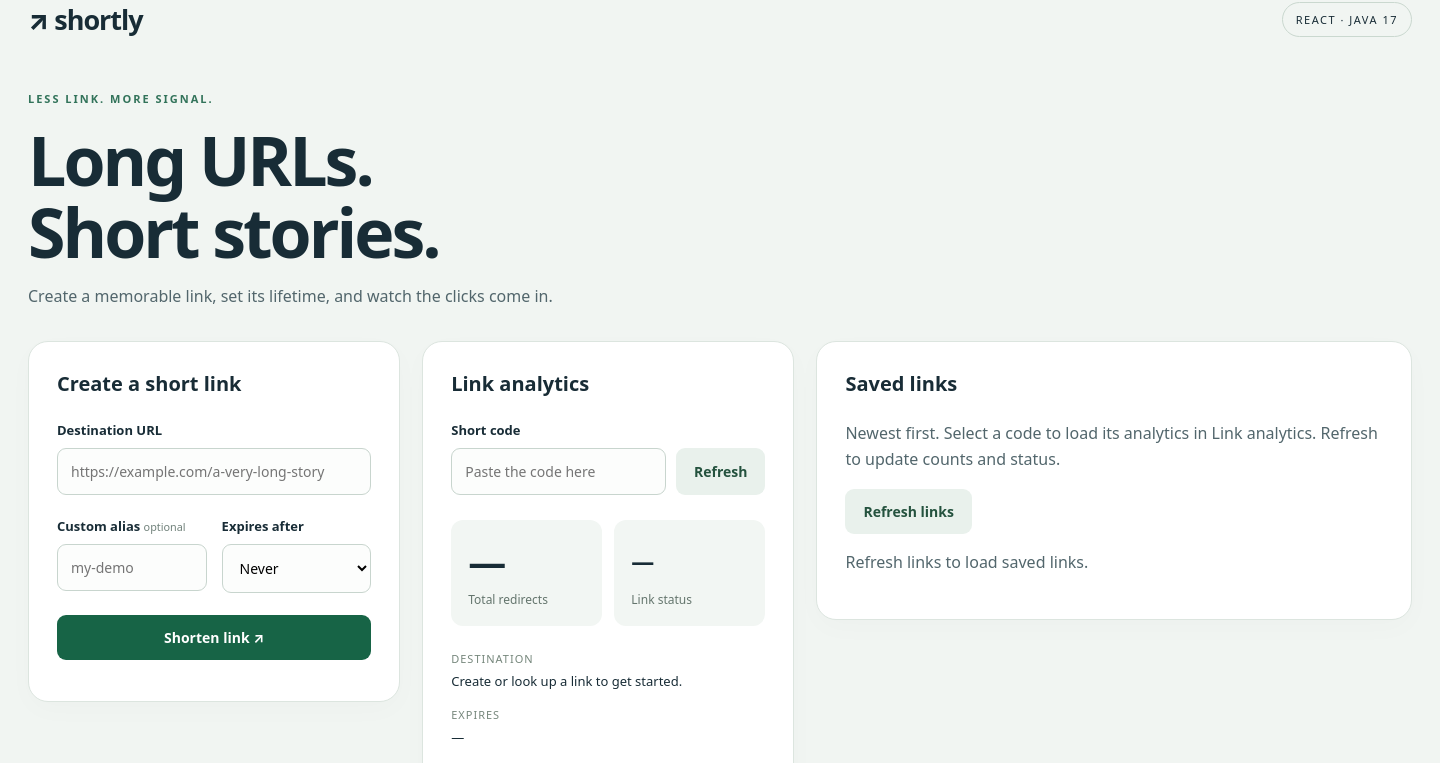
Test: React shortener workflows › reports a missing backend when the proxy returns non-JSON
Type "demo" into the field labelled "Short code". click: (559,472)
box: [451,448,666,495]
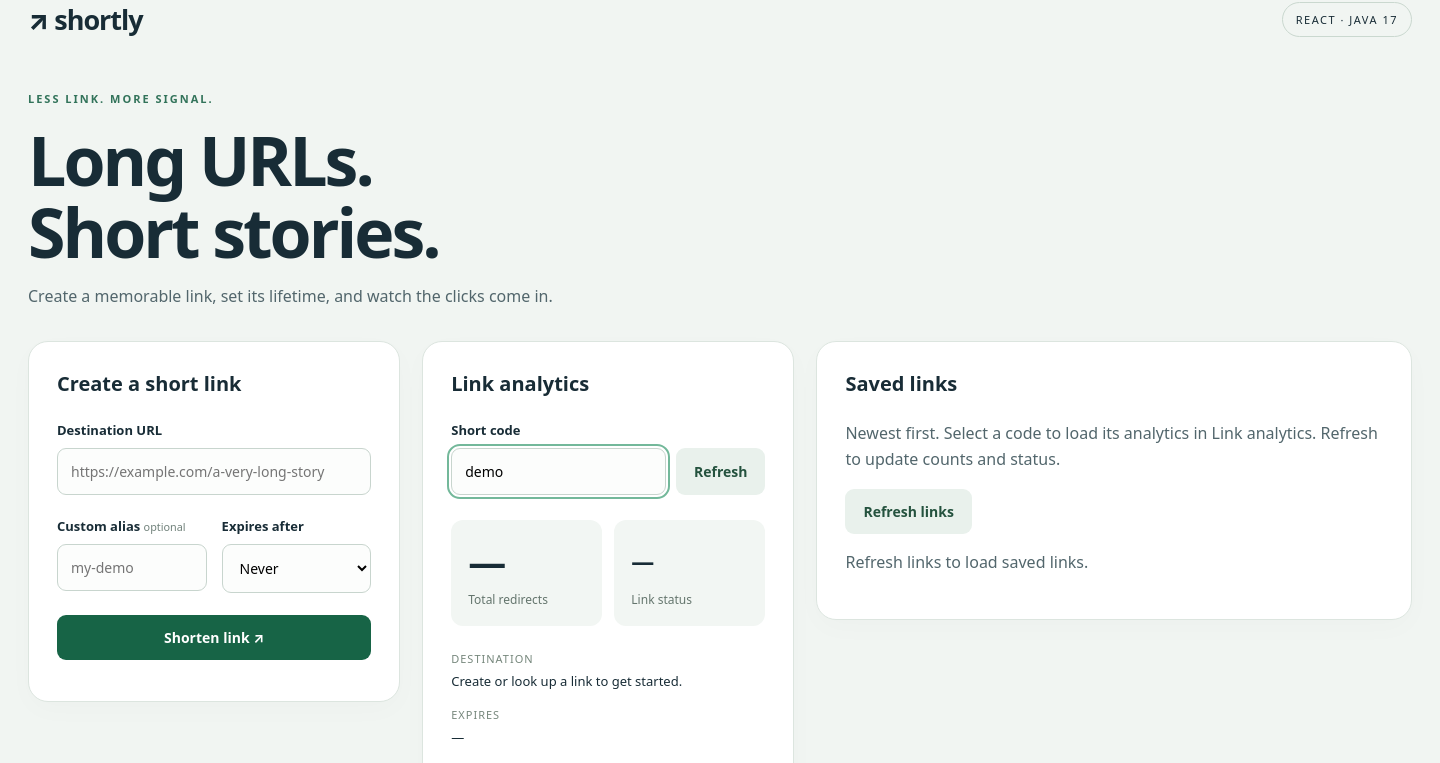
Click the button "Refresh". click: (721,472)
box: [676,448,766,495]
(page scrolled)
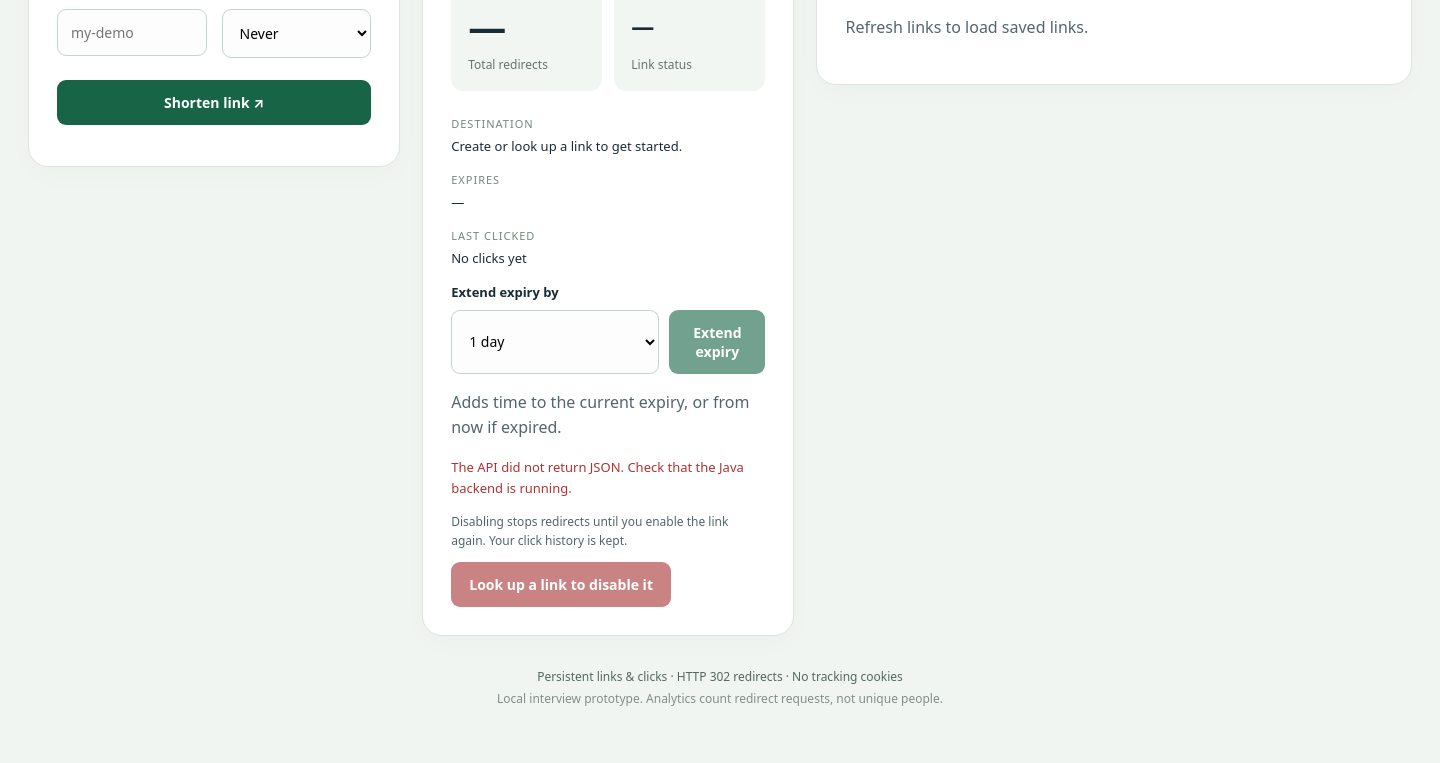
Expected: the text "The API did not return JSON. Check that the Java backend is running." is shown, [451,457,765,499]
